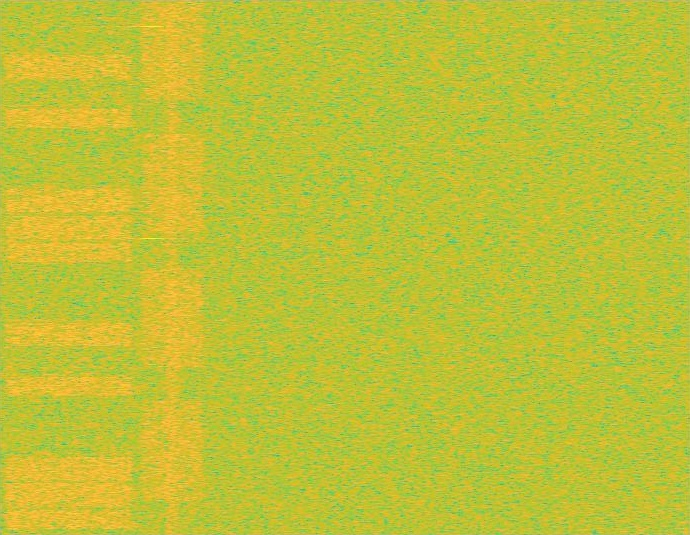5G: (138, 0, 207, 534)
DSSS: (165, 0, 180, 534)
LTE: (0, 0, 138, 534)
Radar: (145, 0, 159, 534)
